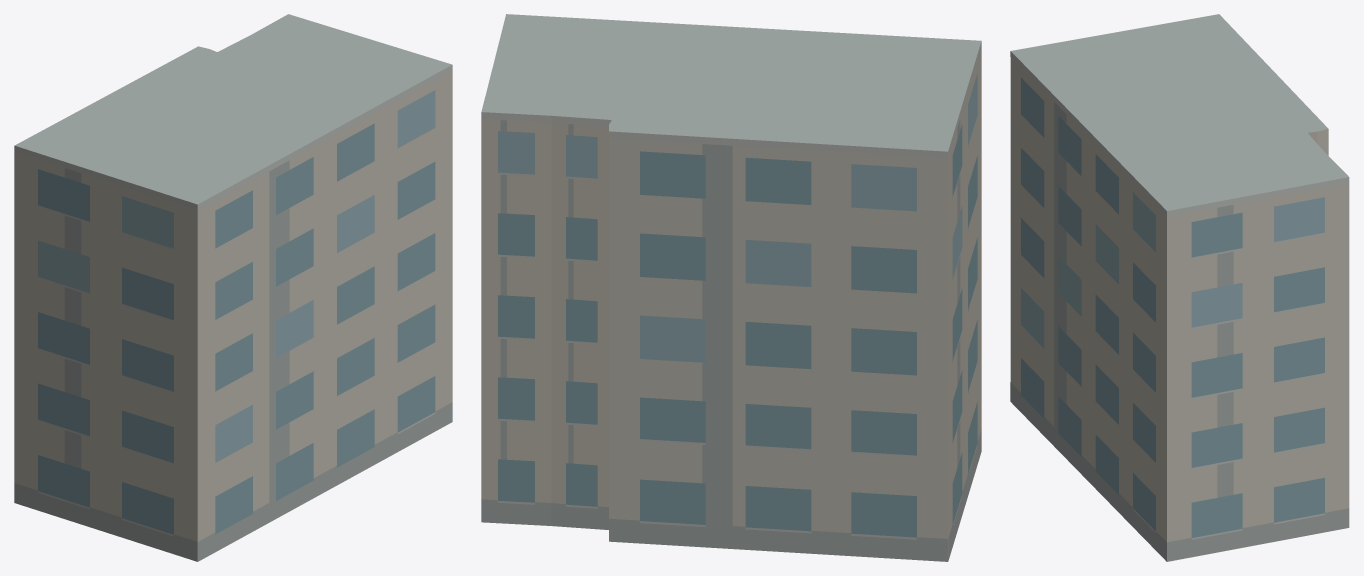
Rendered from survey-upis-32889351.glb.
3 renders of one model, left to right at view 1: azimuth 30°, elevation 25°; view 2: azimuth 150°, elevation 25°; view 3: azimuth 270°, elevation 25°, orthographic. The views are drawn at different scales.
Visible parts, largest first — view 1: survey-upis-32889351.tmp; view 2: survey-upis-32889351.tmp; view 3: survey-upis-32889351.tmp.
Part boxes in pixels (bbox=[...]): survey-upis-32889351.tmp: bbox=[14, 14, 452, 561]; survey-upis-32889351.tmp: bbox=[481, 14, 981, 561]; survey-upis-32889351.tmp: bbox=[1010, 14, 1349, 561].
Bounding box in the file's own units: 17.12 × 14.2 × 12.44.
